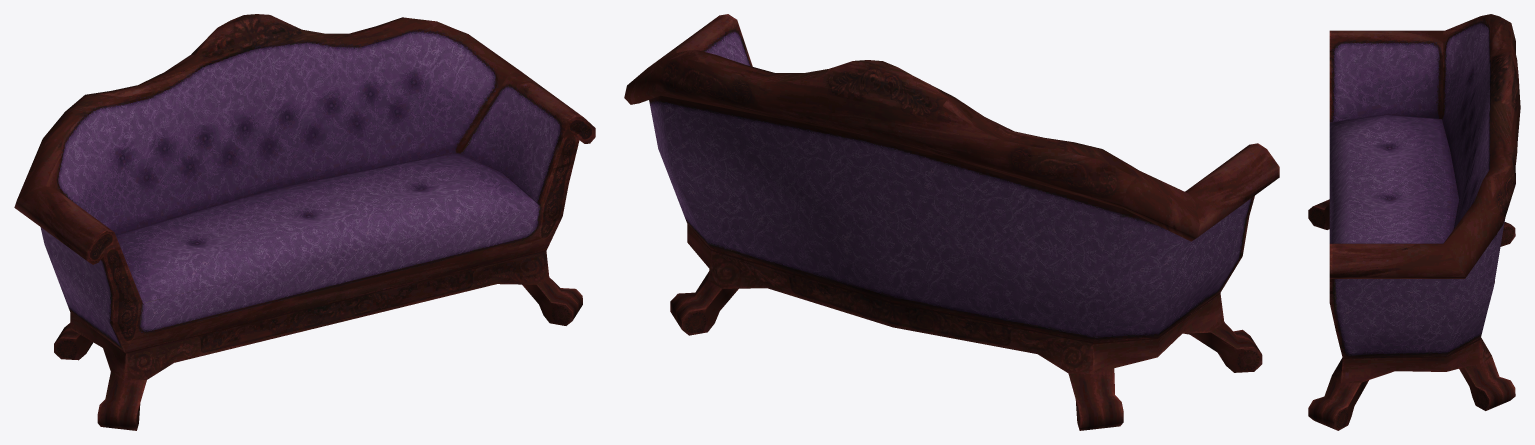
Rendered from sofa_alt_purple.dae.
3 renders of one model, left to right at view 1: azimuth 30°, elevation 25°; view 2: azimuth 150°, elevation 25°; view 3: azimuth 270°, elevation 25°, orthographic. The views are drawn at different scales.
Visible parts, largest first — view 1: polySurface2; view 2: polySurface2; view 3: polySurface2.
Part boxes in pixels (x1,y1,x2,y2): polySurface2: [14, 14, 595, 430]; polySurface2: [624, 14, 1279, 430]; polySurface2: [1308, 14, 1520, 430].
Bounding box in the file's own units: 2.4 × 1.29 × 0.9348.
Materials: 1 (1 with a texture image).
